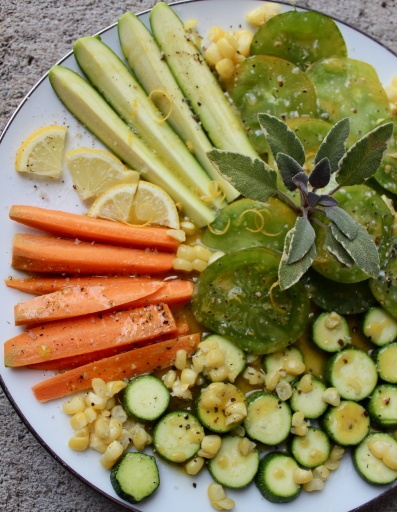background: (2, 1, 246, 408)
